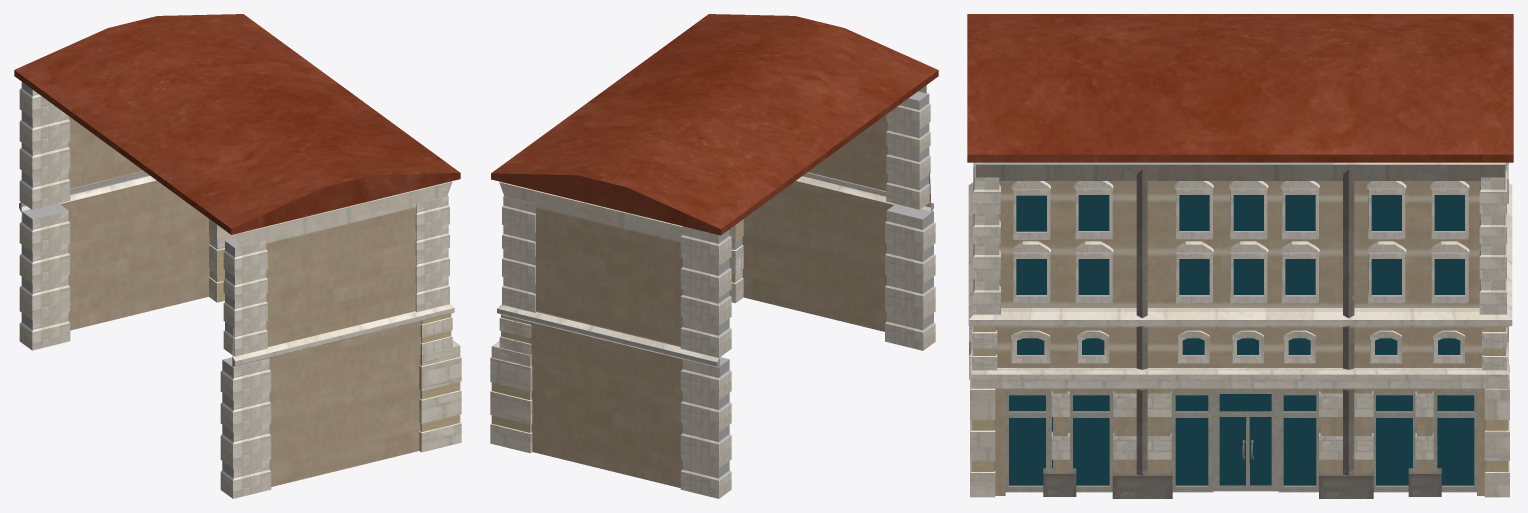
File: Bat_VieuxPort_3.fbx
The picture shows the model from 3 angles, left to right: view 1: azimuth 30°, elevation 25°; view 2: azimuth 150°, elevation 25°; view 3: azimuth 270°, elevation 25°; orthographic projection. The views are drawn at different scales.
Parts seen in each view (by area): view 1: Bat_VieuxP_3; view 2: Bat_VieuxP_3; view 3: Bat_VieuxP_3.
Part boxes in pixels (x1,y1,x2,y2): Bat_VieuxP_3: [14, 14, 461, 498]; Bat_VieuxP_3: [490, 14, 938, 498]; Bat_VieuxP_3: [967, 14, 1513, 498].
Bounding box in the file's own units: 1116 × 1320 × 1790.
